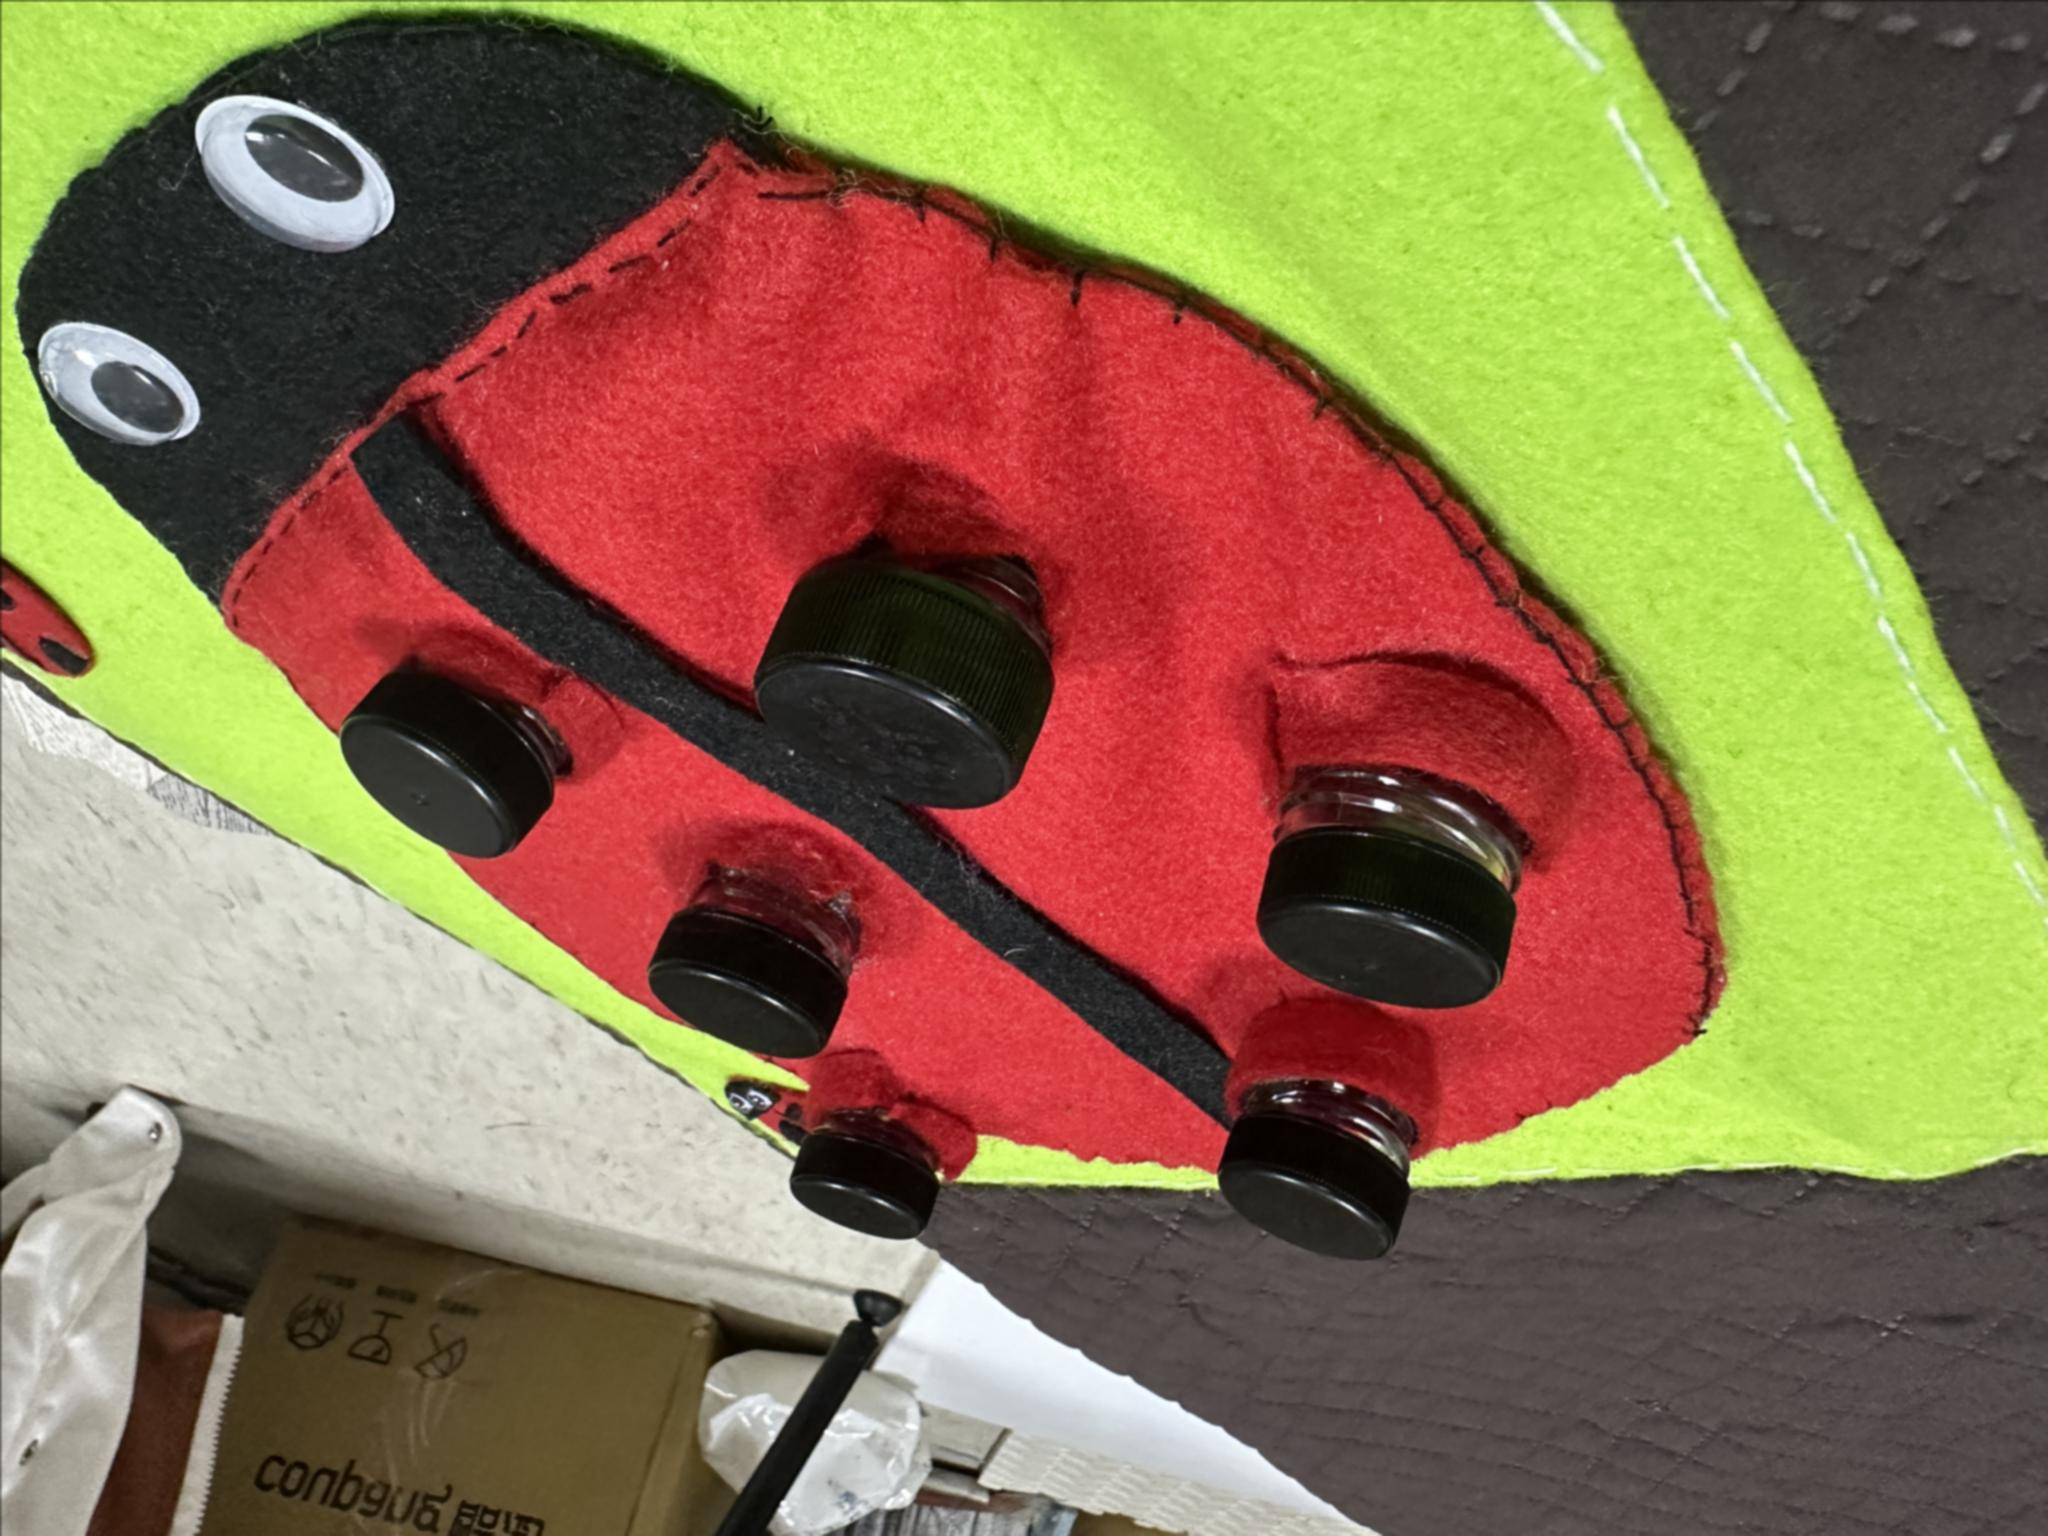cap_ng: (1237, 631, 1580, 1016), (1206, 991, 1445, 1263), (618, 842, 893, 1065), (772, 1049, 980, 1246)
cap_ok: (706, 494, 1109, 834), (323, 628, 626, 874)
